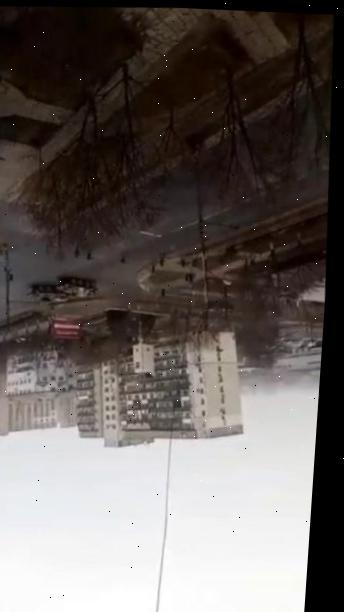person: (71, 242, 83, 260), (156, 252, 167, 267), (148, 261, 157, 276), (85, 250, 94, 263), (119, 253, 127, 265), (179, 255, 186, 268), (182, 273, 189, 285)
tank: (26, 284, 71, 306), (56, 276, 100, 297)
